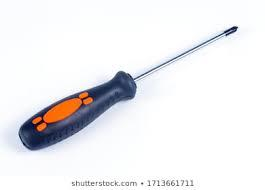screwdriver: (17, 23, 238, 149)
